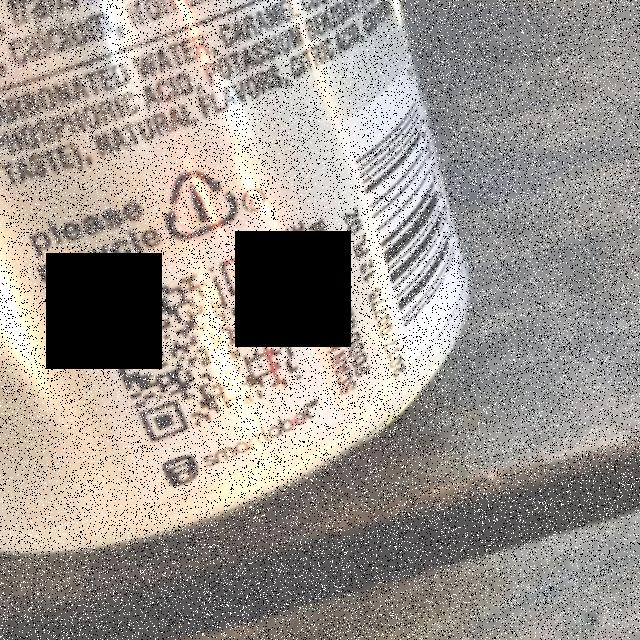QR_CODE: (78, 230, 318, 450)
